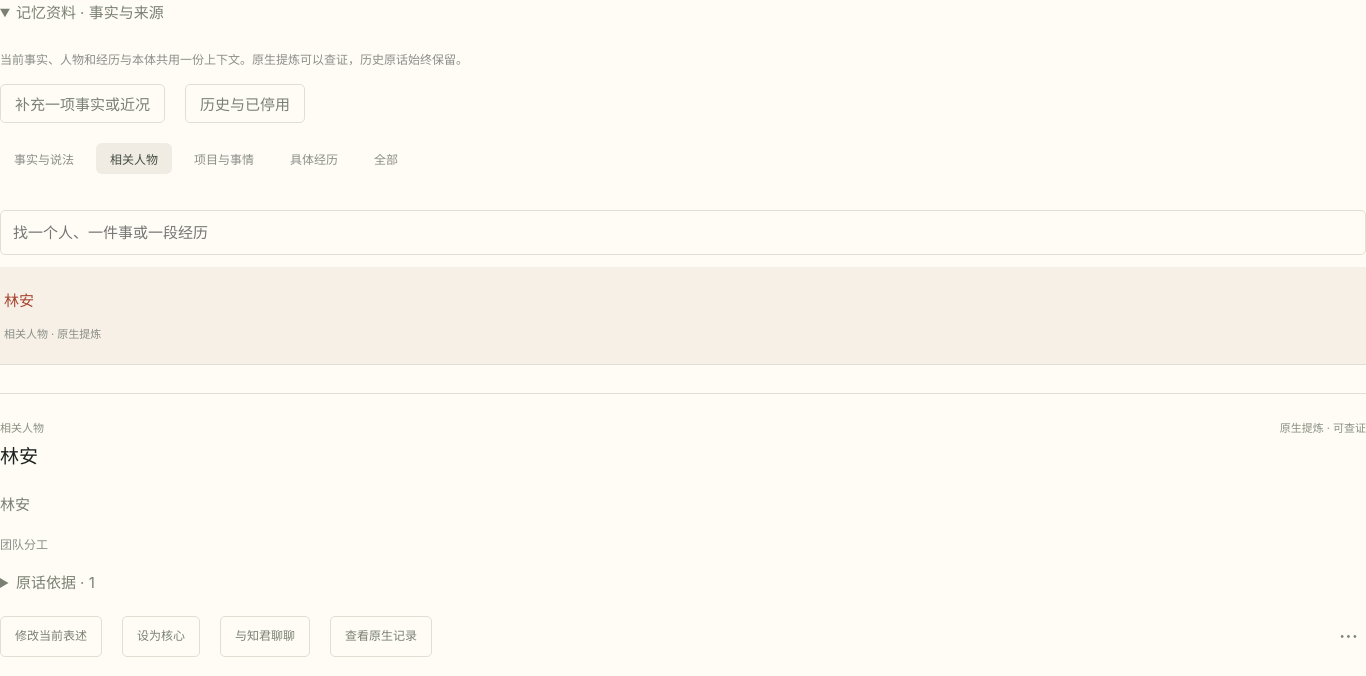
it: preserves draft on a real target conflict and requires checking the new version
The image size is (1366, 676).
Click the button "修改当前表述" at (51, 637), box x1=0 y1=616 x2=102 y2=657
(page scrolled)
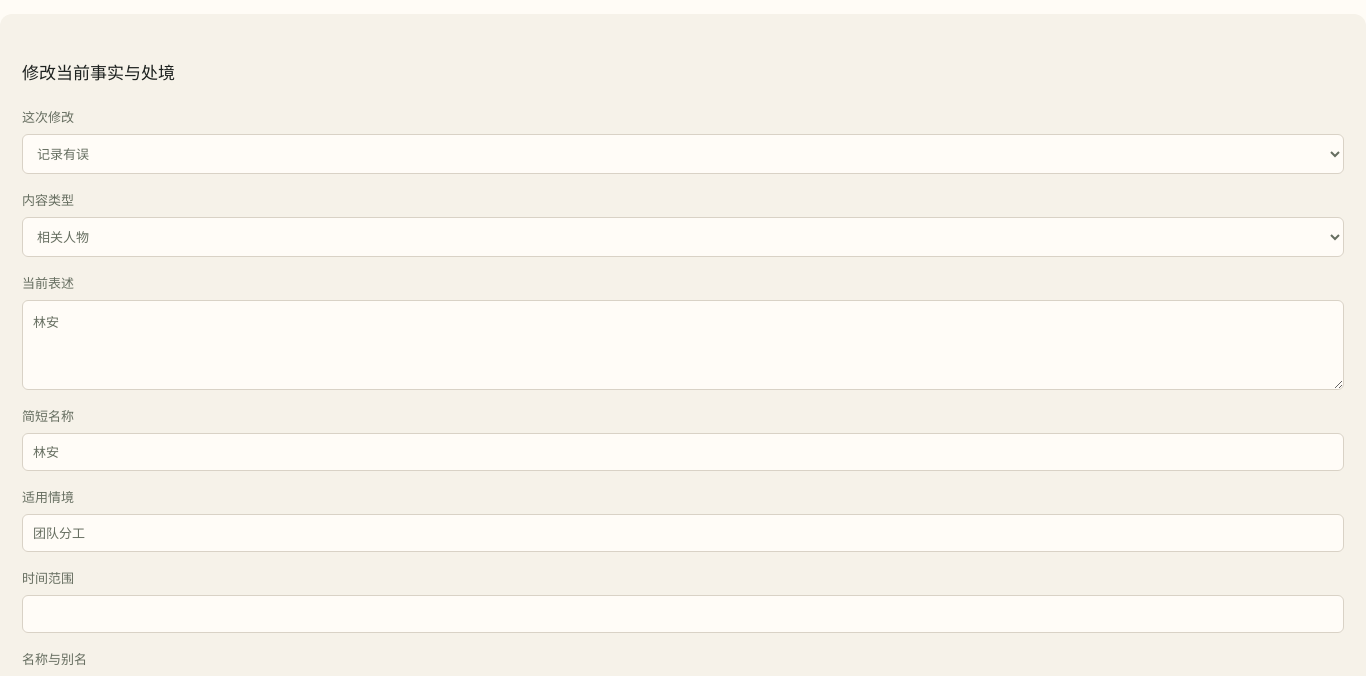
Replace the text in the text box labelled "当前表述" with "我的新文字" at (683, 345), box x1=22 y1=300 x2=1344 y2=390
(page scrolled)
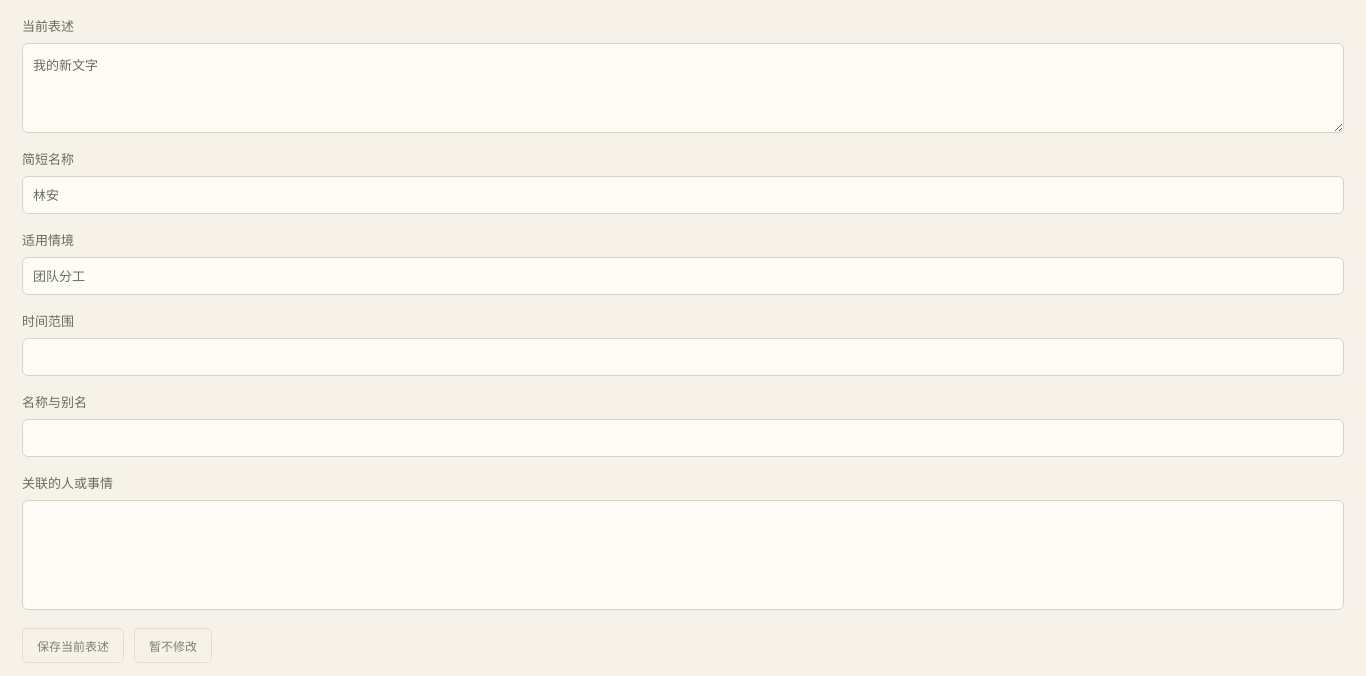
Click the button "保存当前表述" at (73, 645), box x1=22 y1=628 x2=124 y2=663
(page scrolled)
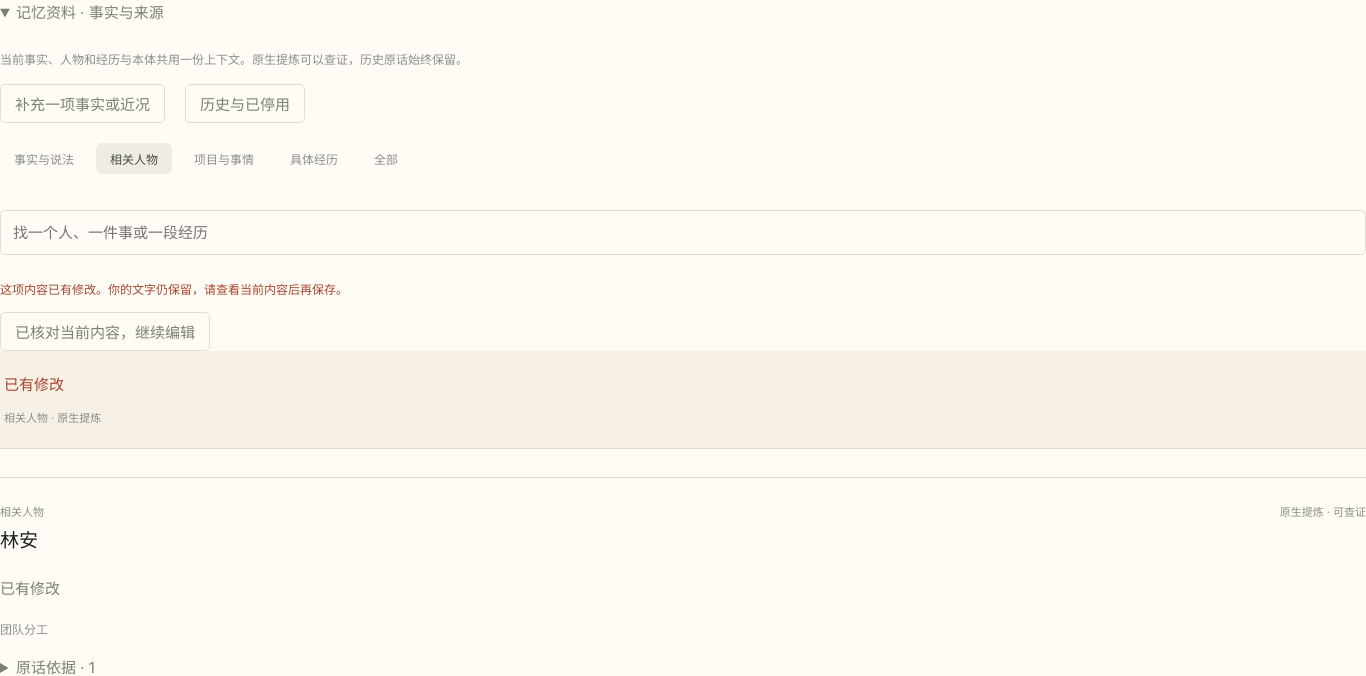
Expected: the text "这项内容已有修改。你的文字仍保留，请查看当前内容后再保存。" is shown, x1=0 y1=282 x2=348 y2=297
Click the button "已核对当前内容，继续编辑" at (105, 332), box x1=0 y1=312 x2=210 y2=351
(page scrolled)
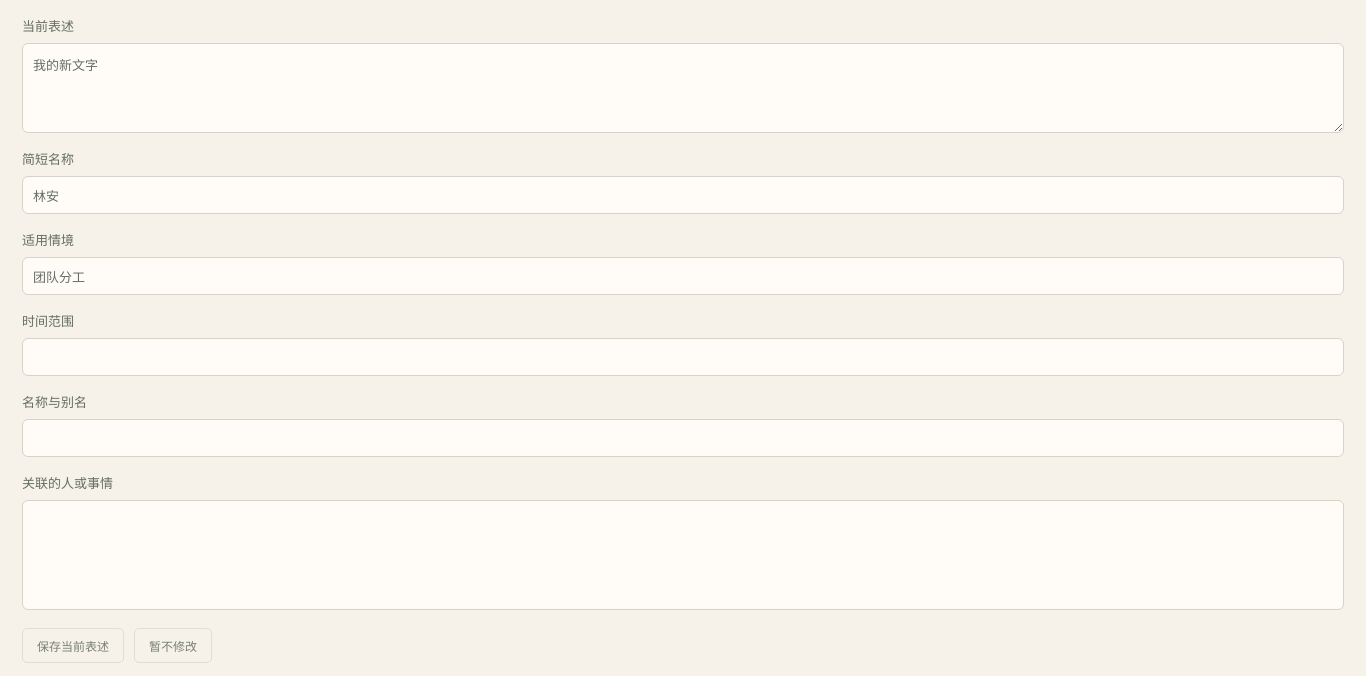
Expected: the button "保存当前表述" is enabled, x1=22 y1=628 x2=124 y2=663
